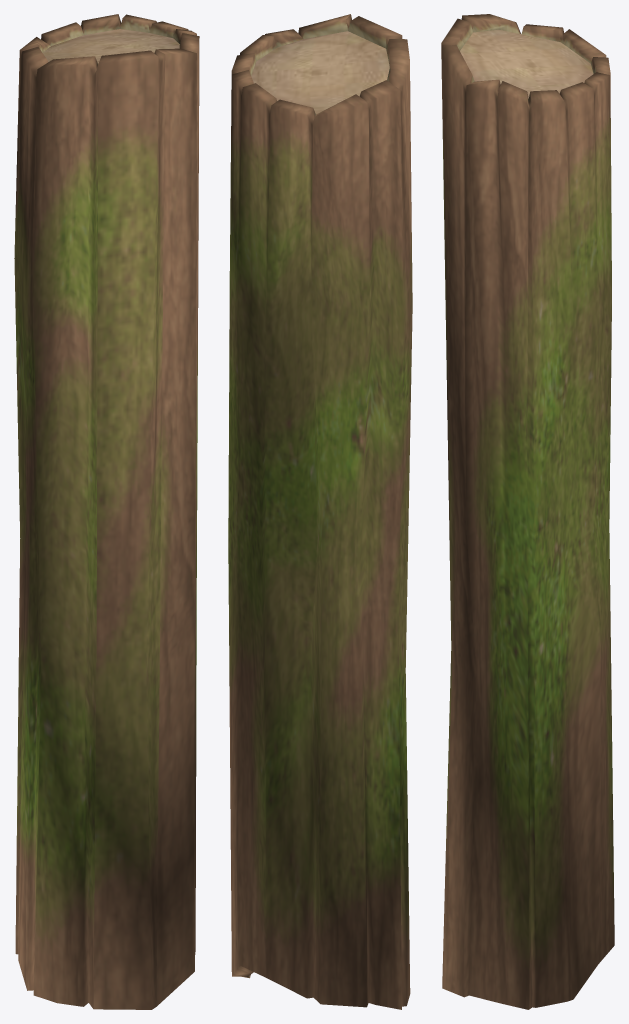
Rendered from log_small_001_lod_model_b.glb.
3 views of the same model, side by side, from view 1: azimuth 30°, elevation 25°; view 2: azimuth 150°, elevation 25°; view 3: azimuth 270°, elevation 25° (orthographic).
Parts seen in each view (by area): view 1: trees_log_mossy.png__, tree_stumps.jpg__; view 2: trees_log_mossy.png__, tree_stumps.jpg__; view 3: trees_log_mossy.png__, tree_stumps.jpg__.
Part boxes in pixels (x1,y1,x2,y2): trees_log_mossy.png__: (14,14,199,1009); tree_stumps.jpg__: (43,29,179,63); trees_log_mossy.png__: (228,14,412,1009); tree_stumps.jpg__: (249,31,389,977); trees_log_mossy.png__: (441,14,614,1009); tree_stumps.jpg__: (460,29,593,98).
Bounding box in the file's own units: 0.5568 × 3 × 0.497.
2 materials, 2 textured.
